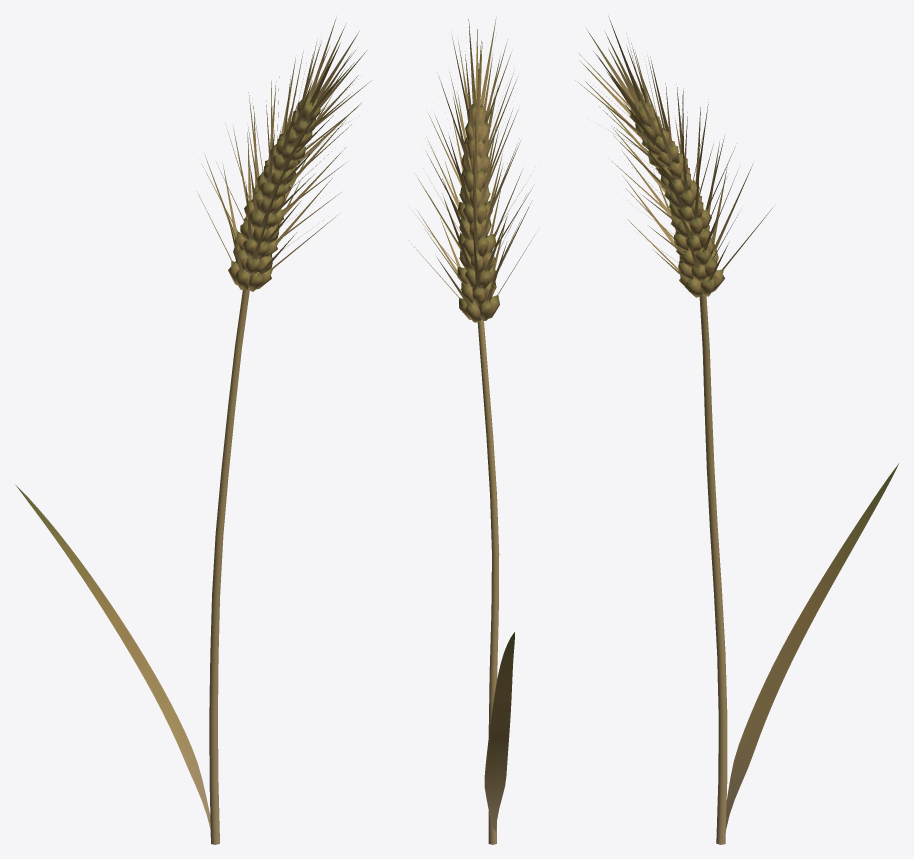
The model's file is wheat_single_strand_cut_upperPart.fbx.
3 views of the same model, side by side, from view 1: azimuth 30°, elevation 25°; view 2: azimuth 150°, elevation 25°; view 3: azimuth 270°, elevation 25° (orthographic). The views are drawn at different scales.
Parts seen in each view (by area): view 1: wheat__0.001; view 2: wheat__0.001; view 3: wheat__0.001.
Part boxes in pixels (bbox=[...]): wheat__0.001: bbox=[15, 18, 370, 844]; wheat__0.001: bbox=[409, 18, 534, 844]; wheat__0.001: bbox=[575, 16, 898, 844].
Size of the model in its own units: 17.6 by 63.67 by 22.12.
Materials: 1 (1 with a texture image).
